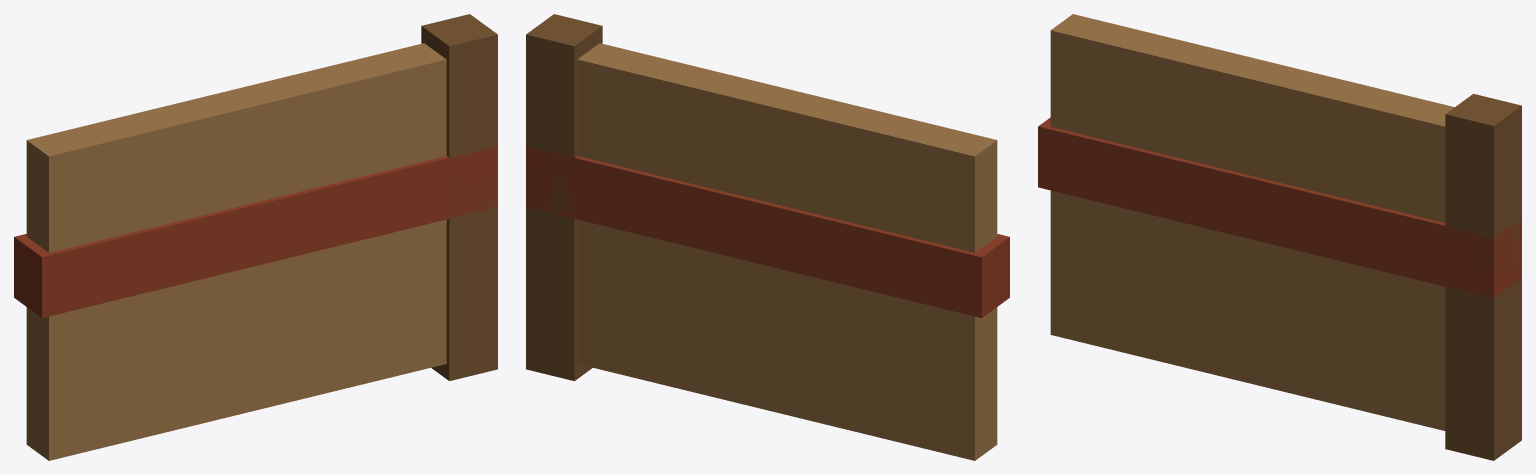
File: poi_tagged_crate_piece_b.glb
The picture shows the model from 3 angles, left to right: view 1: azimuth 30°, elevation 25°; view 2: azimuth 150°, elevation 25°; view 3: azimuth 330°, elevation 25°; orthographic projection.
Visible parts, largest first — view 1: TaggedCratePieceB; view 2: TaggedCratePieceB; view 3: TaggedCratePieceB.
Part boxes in pixels (x1,y1,x2,y2): TaggedCratePieceB: [14, 14, 497, 460]; TaggedCratePieceB: [526, 14, 1009, 460]; TaggedCratePieceB: [1038, 14, 1521, 460].
Size of the model in its own units: 0.94 by 0.66 by 0.1.
